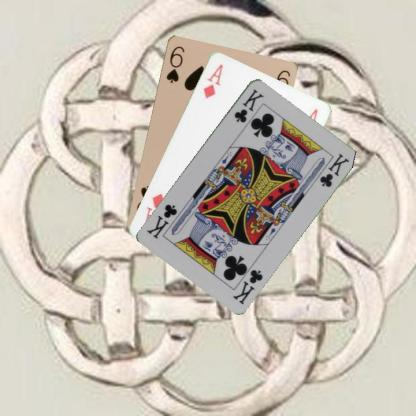6s: (164, 43, 186, 84)
Ad: (201, 61, 224, 99)
Kc: (229, 266, 264, 305), (231, 86, 265, 124)
